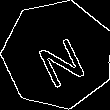N_NW: (28, 23, 87, 86)
